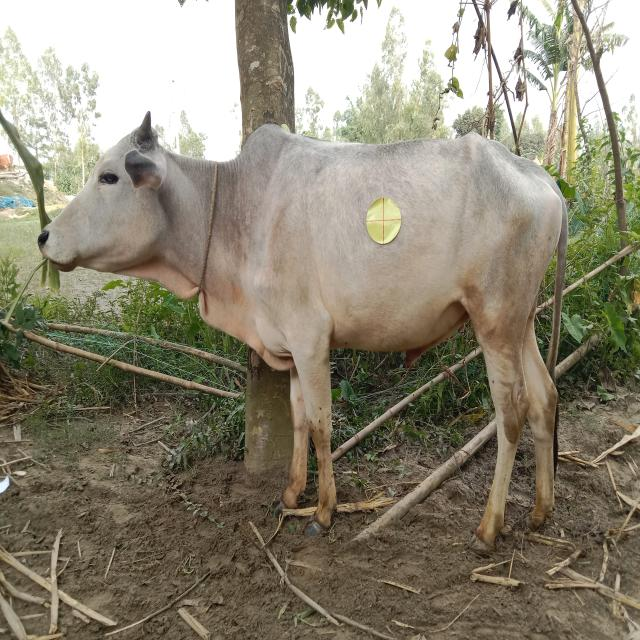badan_sapi: (248, 140, 562, 357)
sapi: (35, 103, 577, 569)
